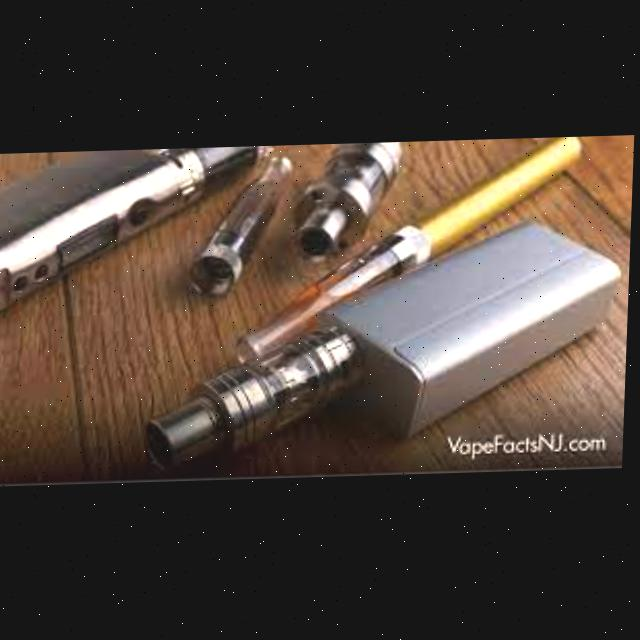vape: (146, 220, 627, 476), (237, 139, 584, 367), (0, 146, 276, 317)
